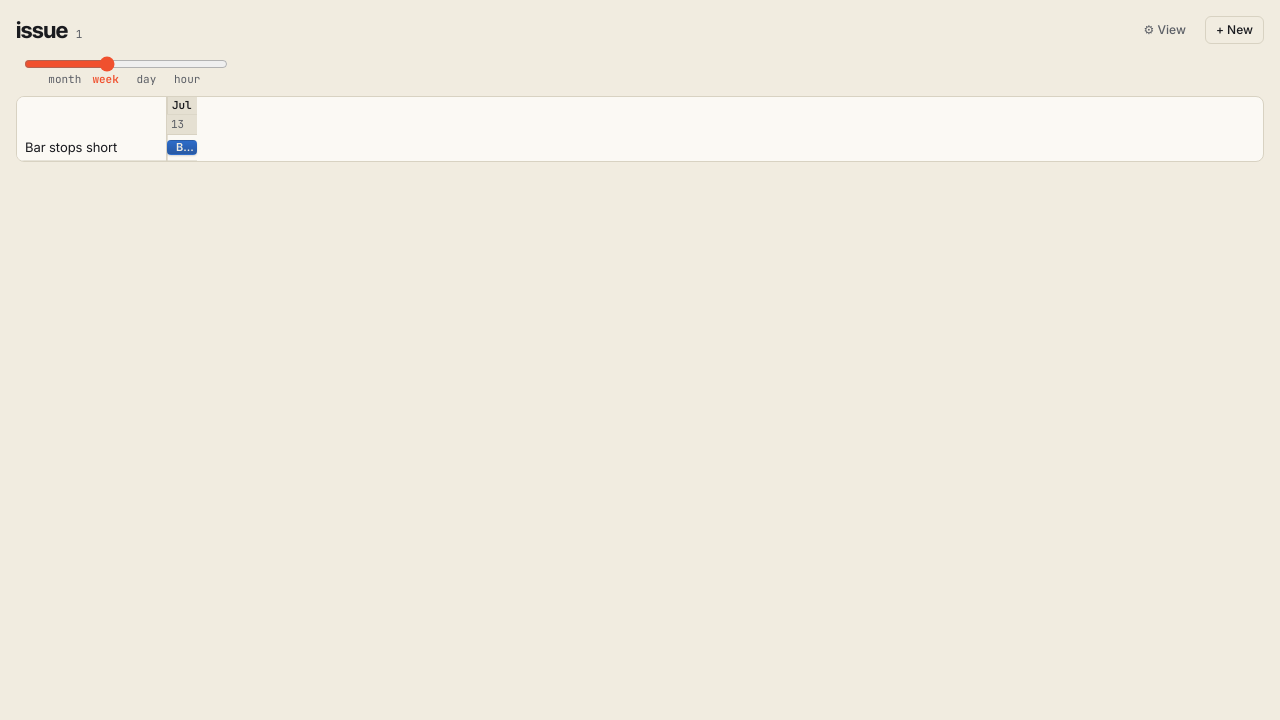
Test: AiYamlRenderer › opens the record modal from a gantt bar double-click, and closes it again
Double-click the element with test id "bar-4".
double_click(182, 148)  # box [167,140,197,155]
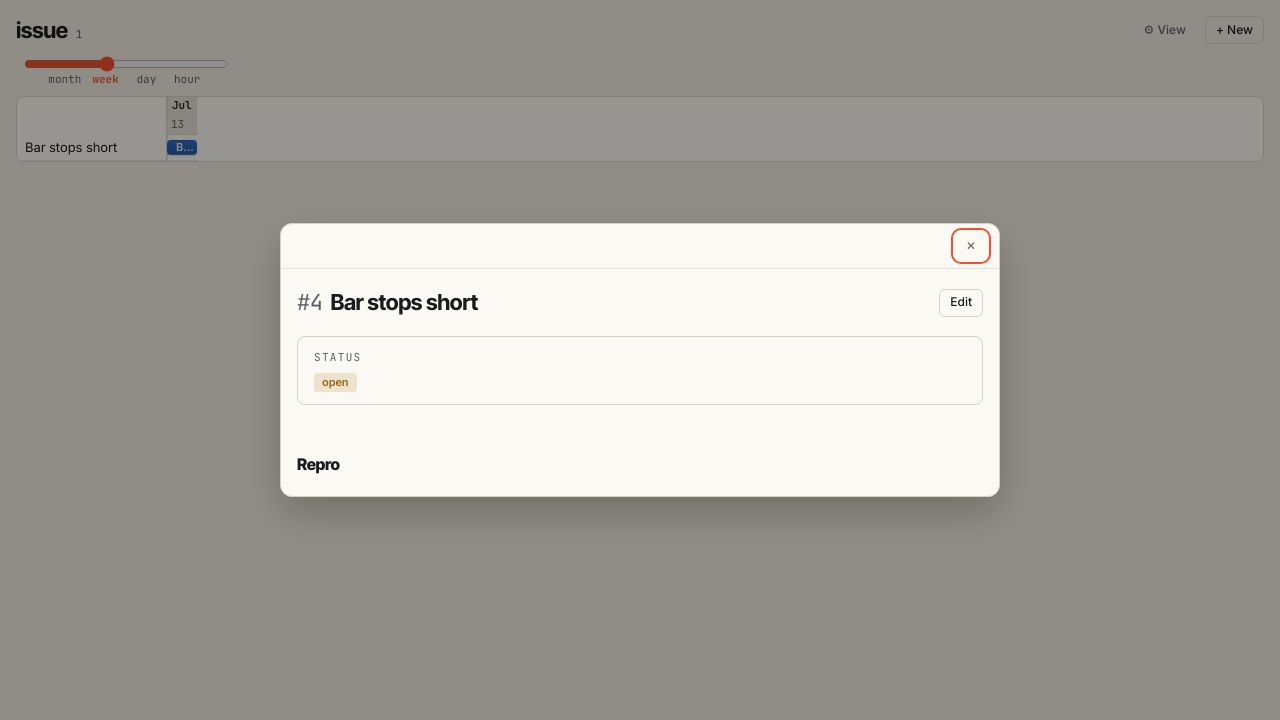
Now the dialog shows "Bar stops short", box [330,289,478,315]
Press Escape
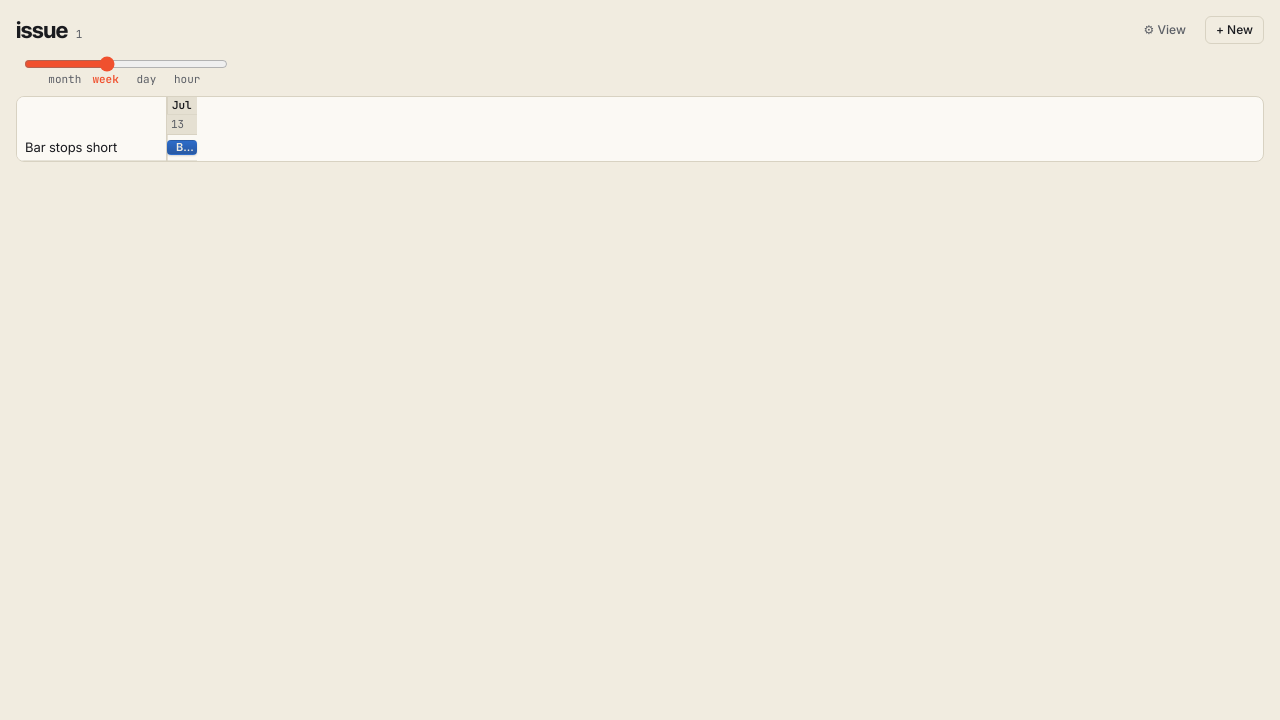
Now the dialog is gone
